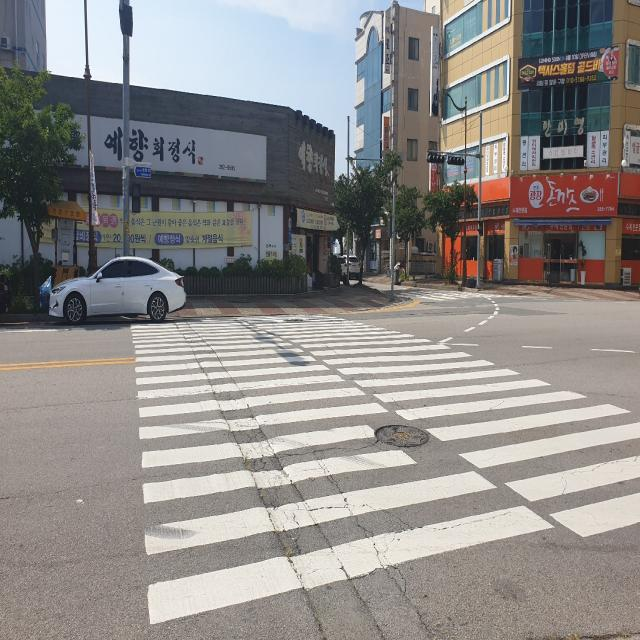횡단보도: (130, 314, 640, 624)
